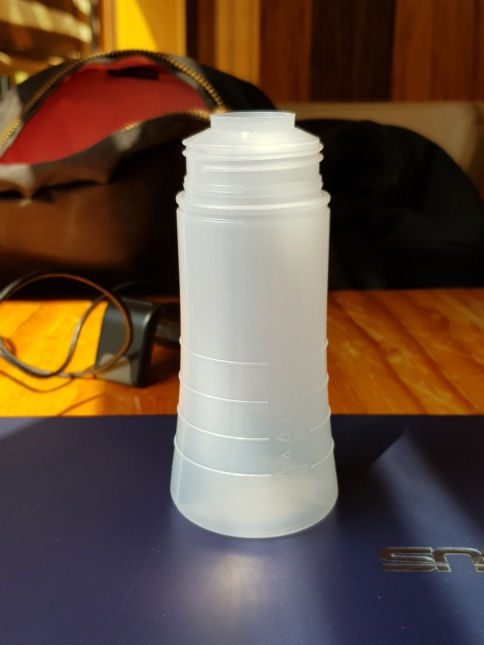Plastic: (164, 106, 341, 544)
